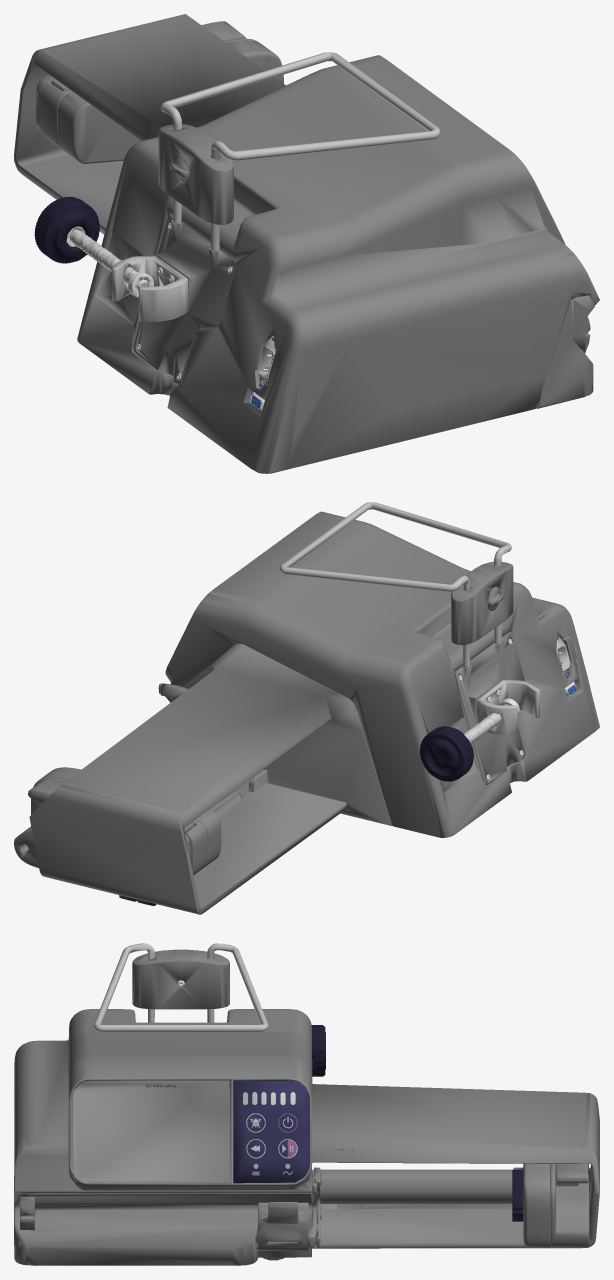
File: infusion_pump.glb
3 views of the same model, one above another, from view 1: azimuth 30°, elevation 25°; view 2: azimuth 150°, elevation 25°; view 3: azimuth 270°, elevation 25° (orthographic). The views are drawn at different scales.
Visible parts, largest first — view 1: body; view 2: body; view 3: body.
Boxes of the visible parts, bbox=[...] form: body: bbox=[14, 14, 599, 473]; body: bbox=[14, 502, 599, 914]; body: bbox=[14, 943, 599, 1265].
Size of the model in its own units: 0.2068 by 0.144 by 0.3519.
Materials: 13 (1 with a texture image).
